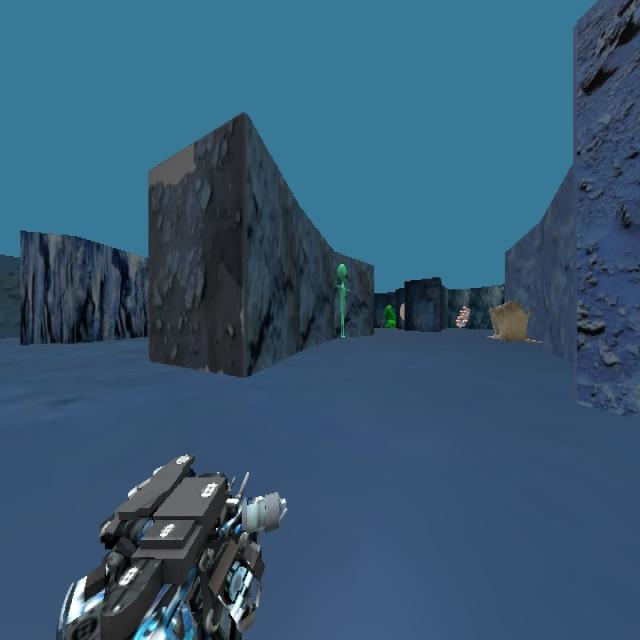Alien: (335, 261, 349, 339)
Circle: (396, 290, 411, 326)
Diamon: (374, 296, 394, 332)
Ice: (489, 309, 539, 347)
Stop_Sign: (455, 304, 470, 328)
